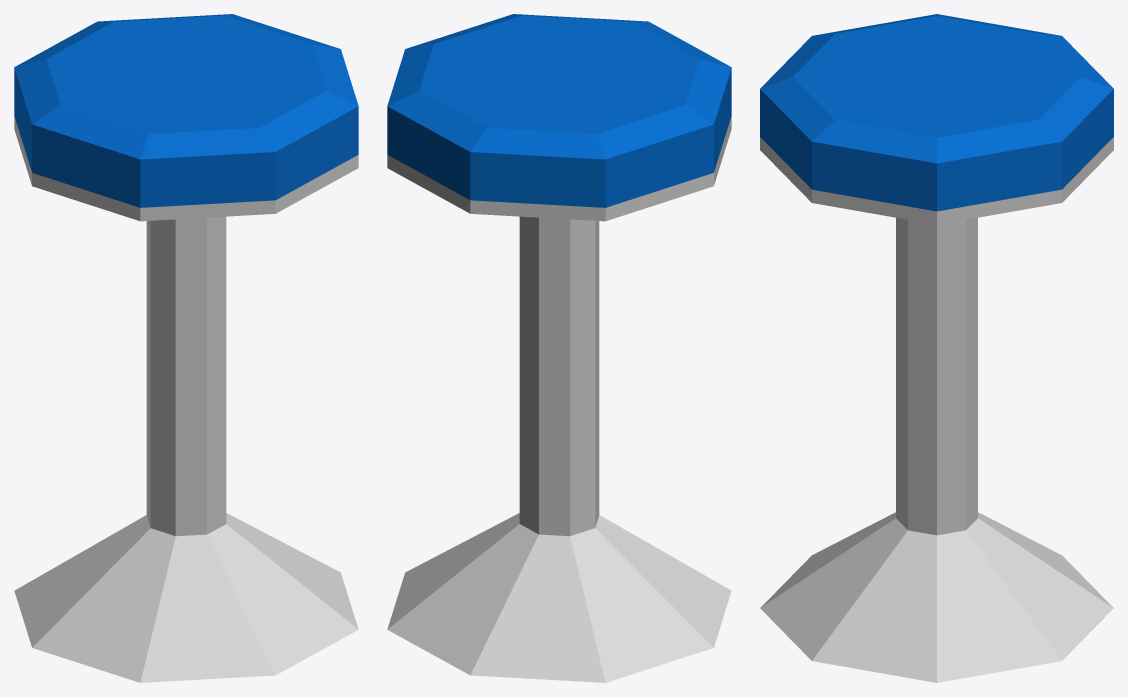
File: chaise3.fbx
3 renders of one model, left to right at view 1: azimuth 30°, elevation 25°; view 2: azimuth 150°, elevation 25°; view 3: azimuth 270°, elevation 25°, orthographic.
Parts seen in each view (by area): view 1: Cylinder; view 2: Cylinder; view 3: Cylinder.
Part boxes in pixels (x1,y1,x2,y2): Cylinder: (14,14,358,682); Cylinder: (387,14,731,682); Cylinder: (760,14,1113,682).
Bounding box in the file's own units: 251 × 417 × 251.
